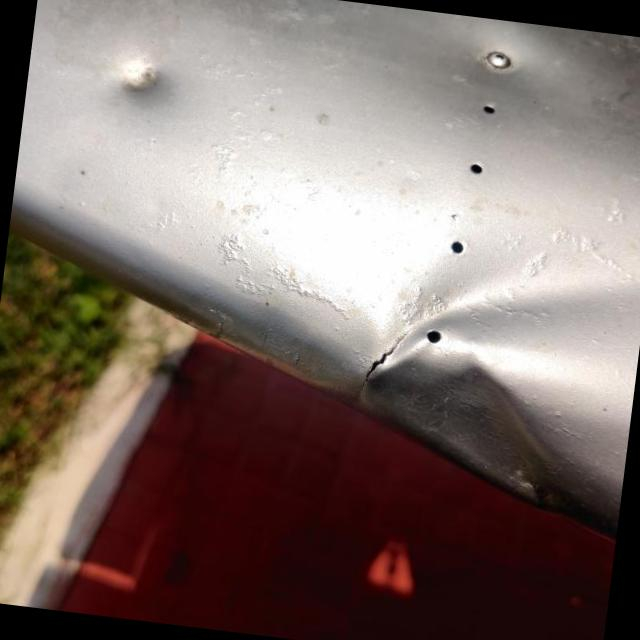Crack: (360, 340, 402, 404)
Dent: (359, 287, 640, 536), (118, 54, 157, 91)
